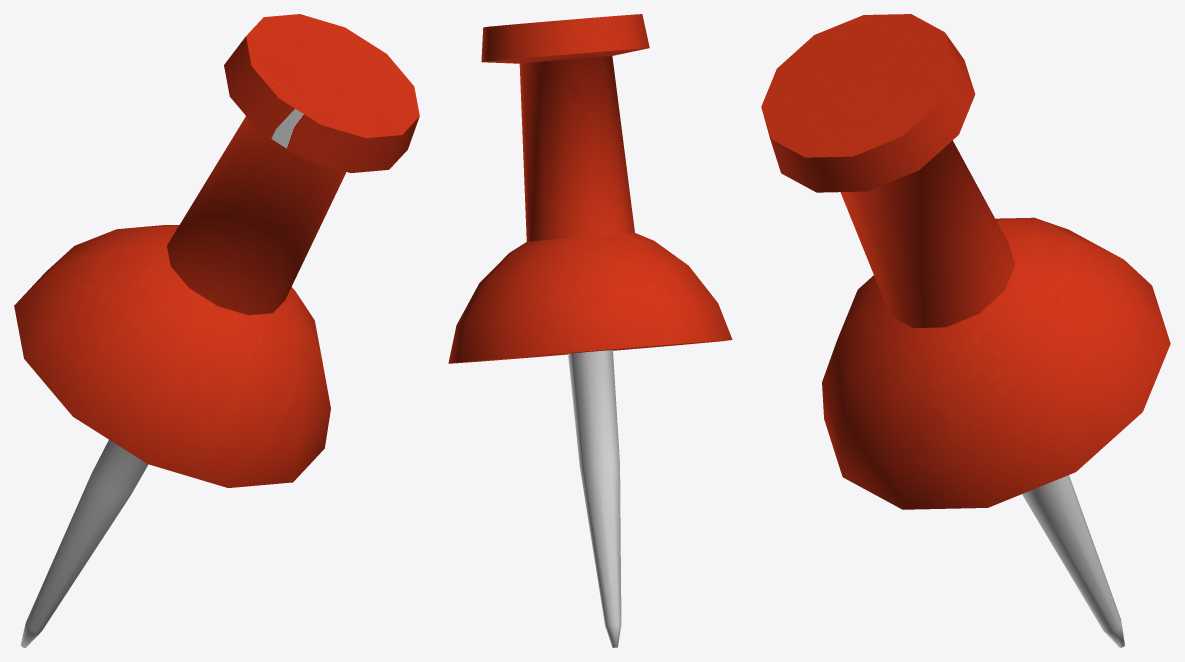
The model's file is Pin2.fbx.
3 renders of one model, left to right at view 1: azimuth 30°, elevation 25°; view 2: azimuth 150°, elevation 25°; view 3: azimuth 270°, elevation 25°, orthographic. The views are drawn at different scales.
Visible parts, largest first — view 1: Pin2; view 2: Pin2; view 3: Pin2.
Boxes of the visible parts, x1,y1,x2,y2 form: Pin2: [14, 14, 419, 647]; Pin2: [448, 14, 732, 647]; Pin2: [761, 14, 1170, 647].
Bounding box in the file's own units: 1.08 × 2.11 × 1.12.
1 material, 1 textured.
